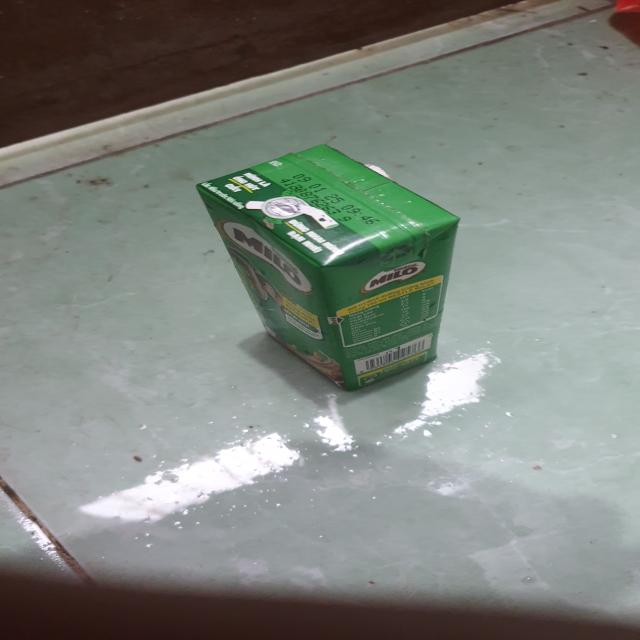Milo: (194, 143, 466, 396)
